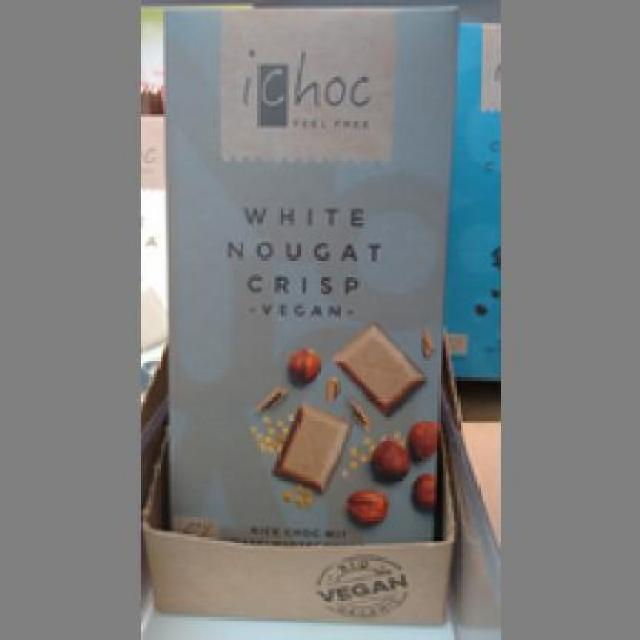Chocolate bar: (157, 3, 454, 546)
